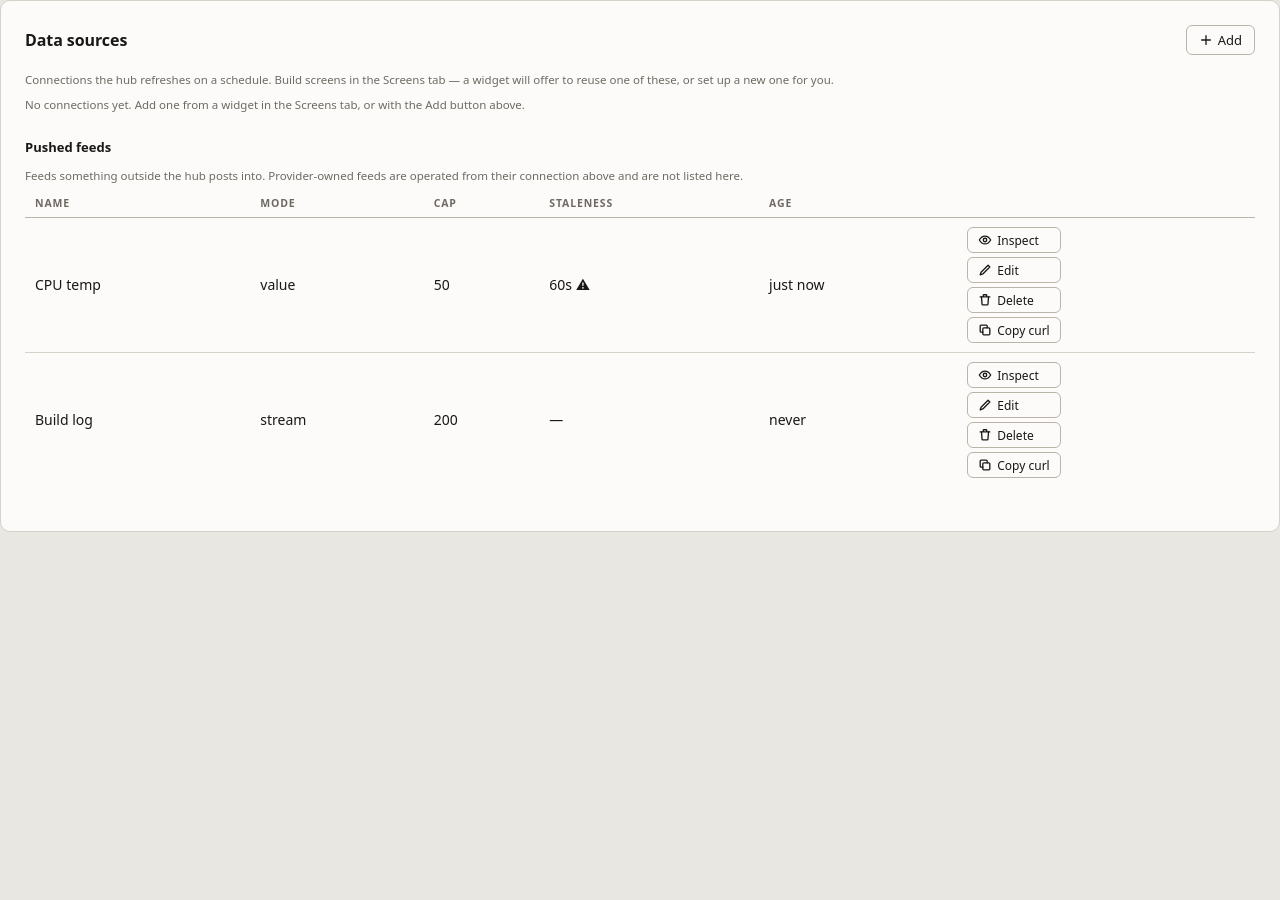
Feeds page › cancelling the dialog deletes nothing
Check: the text "CPU temp" is shown, box 25,217 -> 250,352
Click the button "Delete" in the row of "CPU temp" at (1014, 300), box 967,287 -> 1061,313
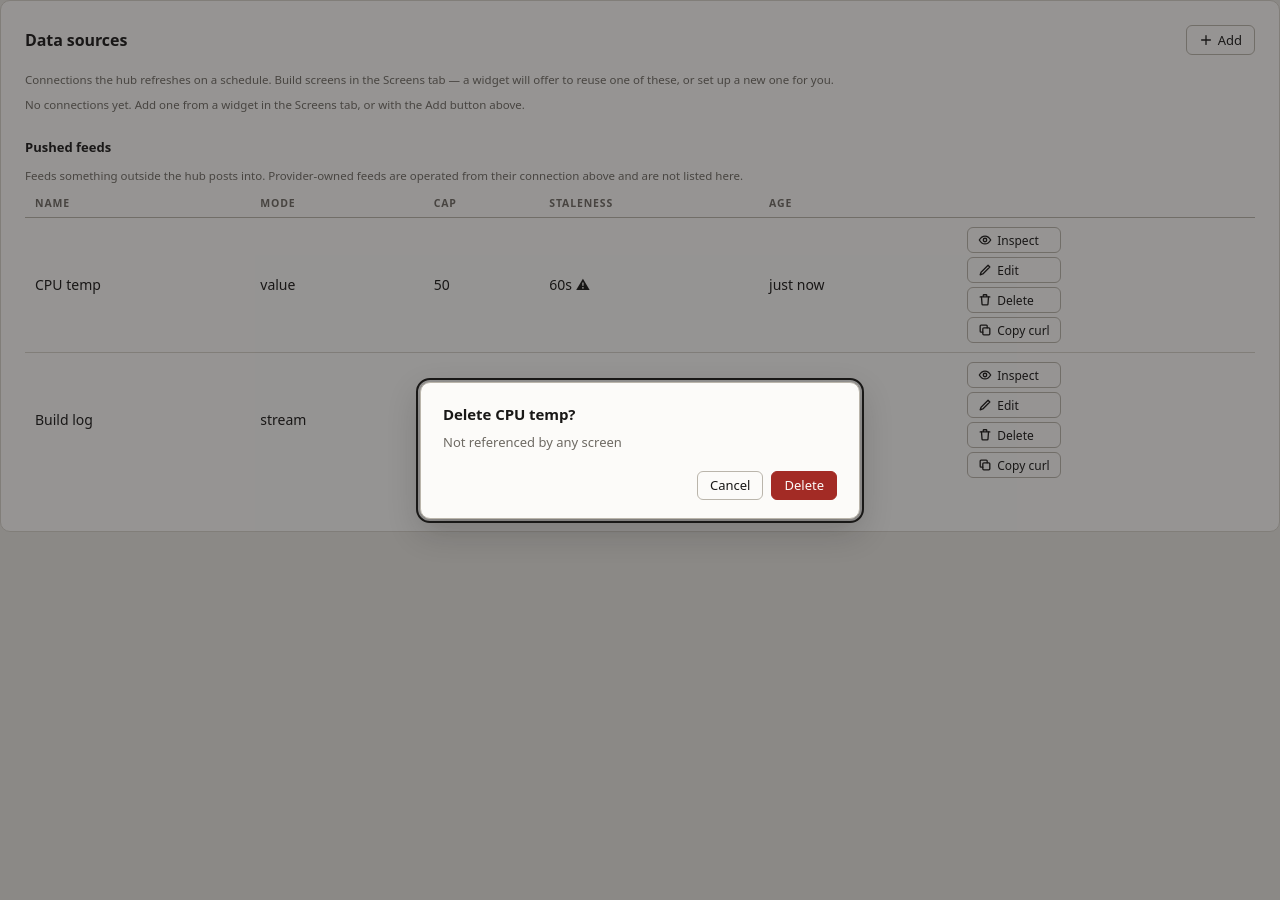
Click the button "Cancel" at (730, 485), box 697,470 -> 764,500
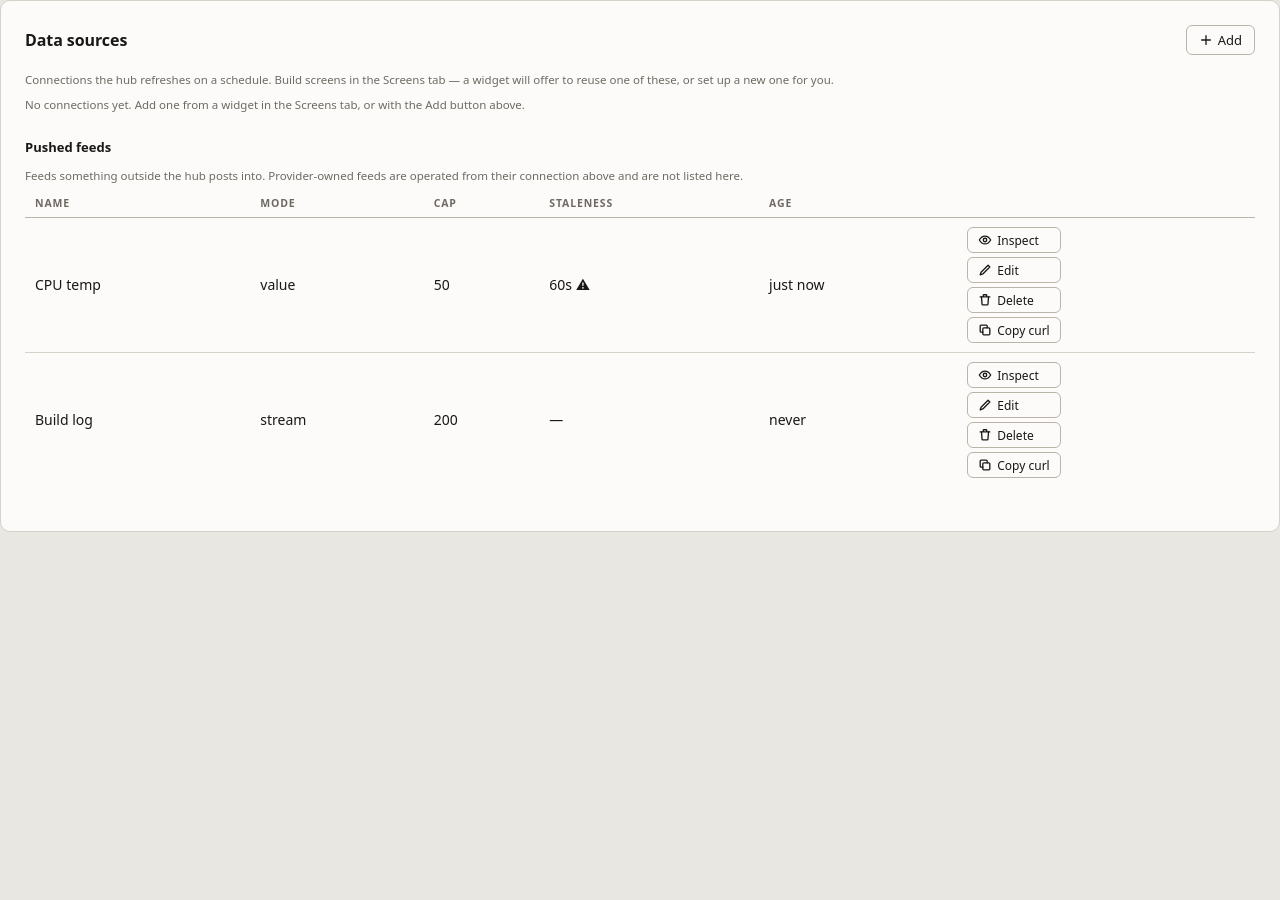
Check: the dialog is gone
